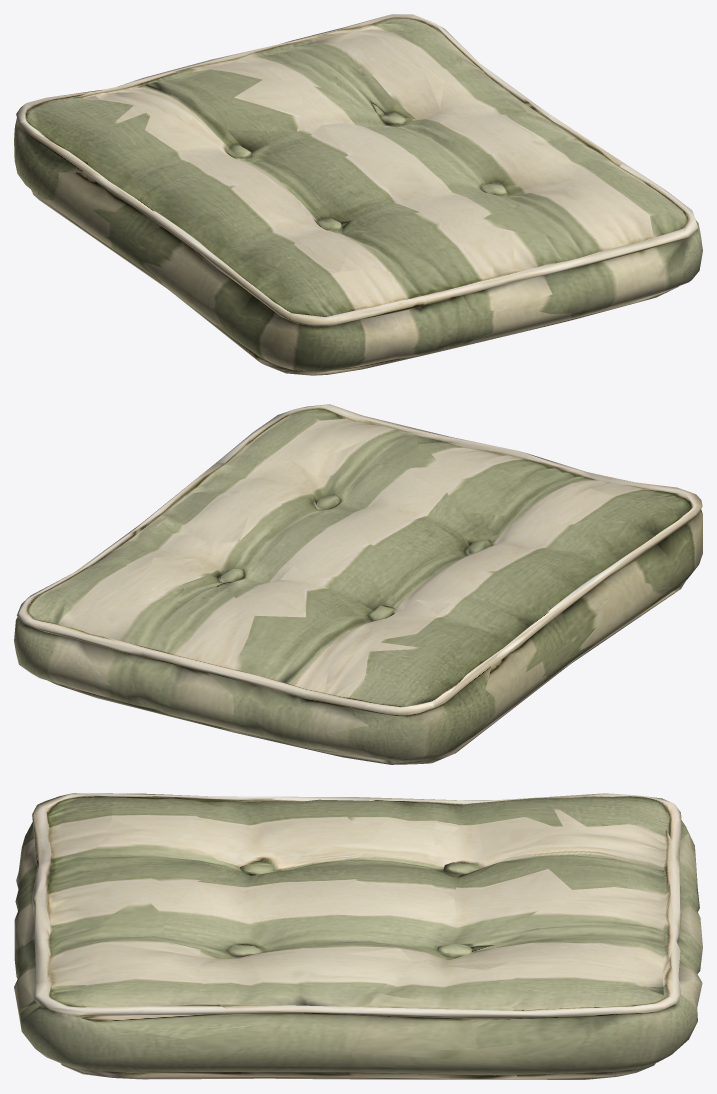
Rendered from cushion.glb.
The picture shows the model from 3 angles, top to bottom: view 1: azimuth 30°, elevation 25°; view 2: azimuth 150°, elevation 25°; view 3: azimuth 270°, elevation 25°; orthographic projection. The views are drawn at different scales.
Parts seen in each view (by area): view 1: tripo_node_b7415fbb; view 2: tripo_node_b7415fbb; view 3: tripo_node_b7415fbb.
Part boxes in pixels (x1,y1,x2,y2): tripo_node_b7415fbb: [14, 14, 702, 375]; tripo_node_b7415fbb: [14, 404, 702, 764]; tripo_node_b7415fbb: [14, 793, 702, 1079].
Size of the model in its own units: 0.9185 by 0.1811 by 1.16.
1 material, 1 textured.
